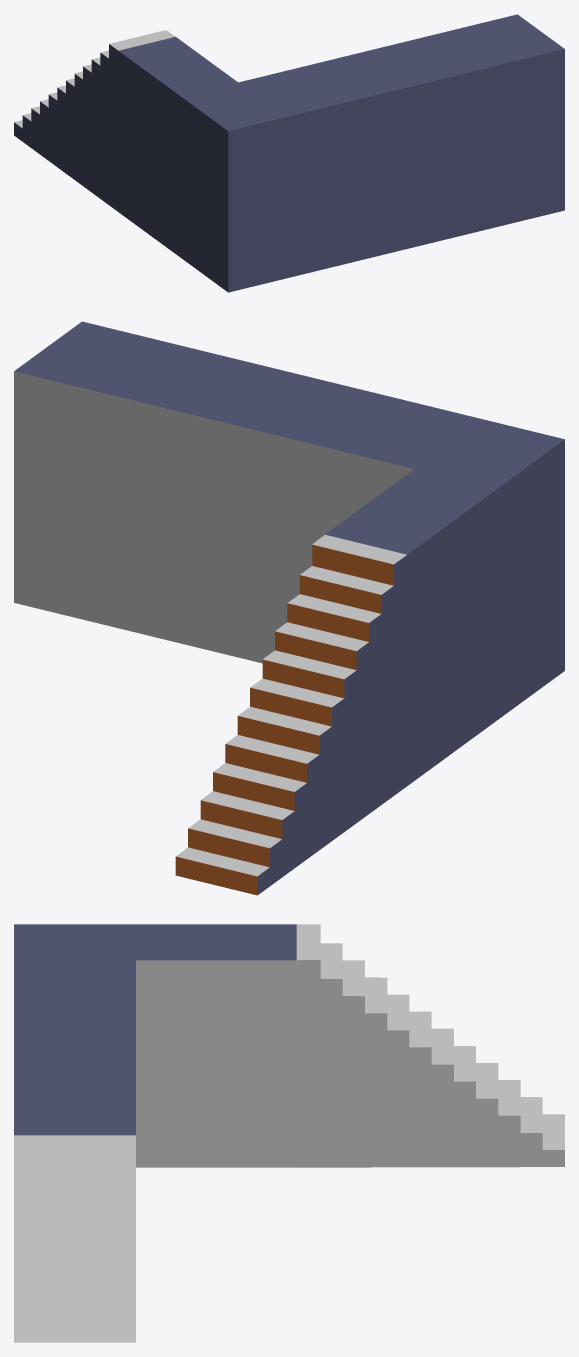
File: gr_stairs.fbx
3 renders of one model, top to bottom at view 1: azimuth 30°, elevation 25°; view 2: azimuth 150°, elevation 25°; view 3: azimuth 270°, elevation 25°, orthographic. The views are drawn at different scales.
Visible parts, largest first — view 1: Stairs; view 2: Stairs; view 3: Stairs.
Part boxes in pixels (x1=…): Stairs: x1=14, y1=14, x2=564, y2=292; Stairs: x1=14, y1=321, x2=564, y2=895; Stairs: x1=14, y1=924, x2=564, y2=1342.
Bounding box in the file's own units: 877 × 402 × 967.
